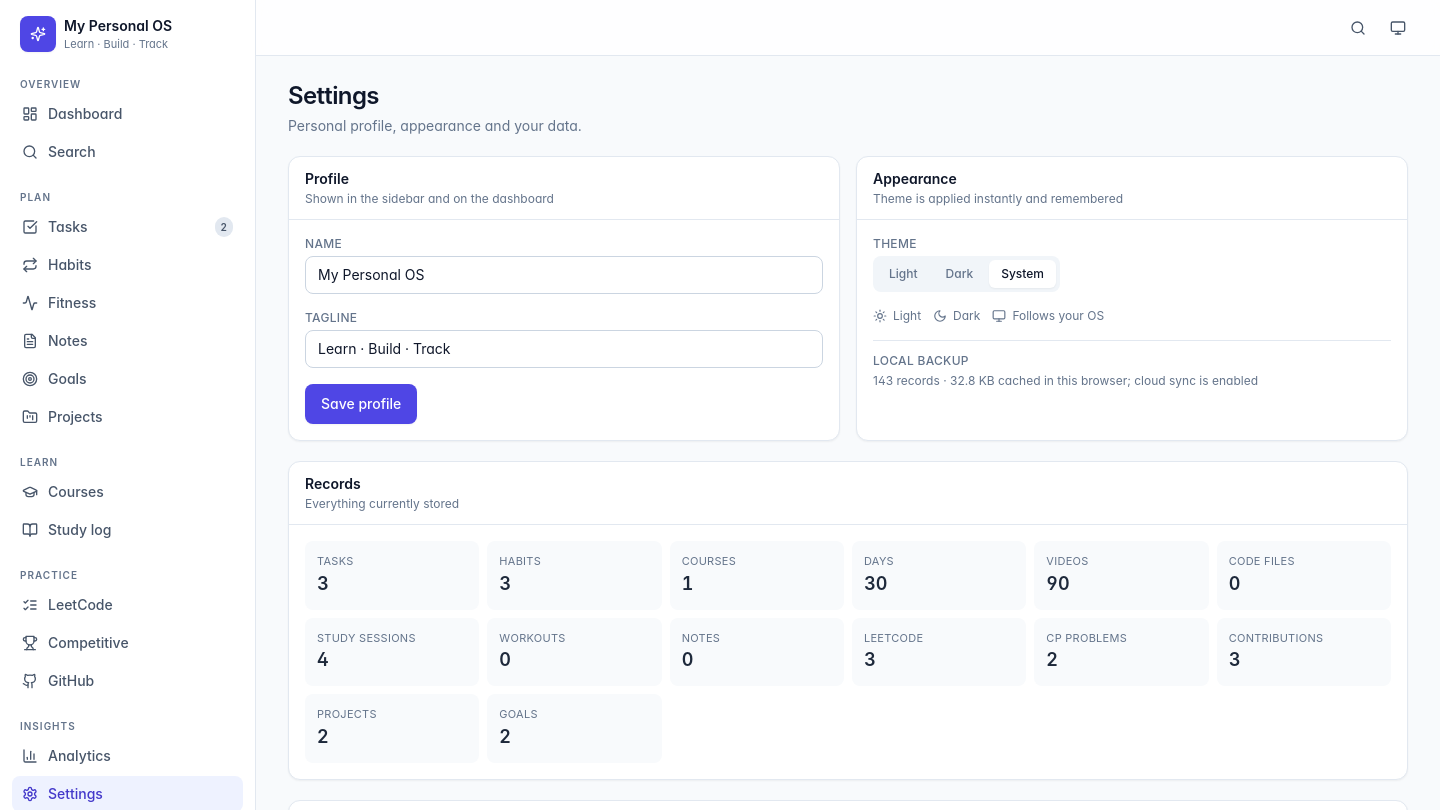
Test case: analytics, search and settings › updates the profile name
Expected: the heading "Settings" is shown, [288, 81, 379, 110]
Replace the text in the field labelled "Name" with "Ada": (564, 275) [305, 256, 823, 294]
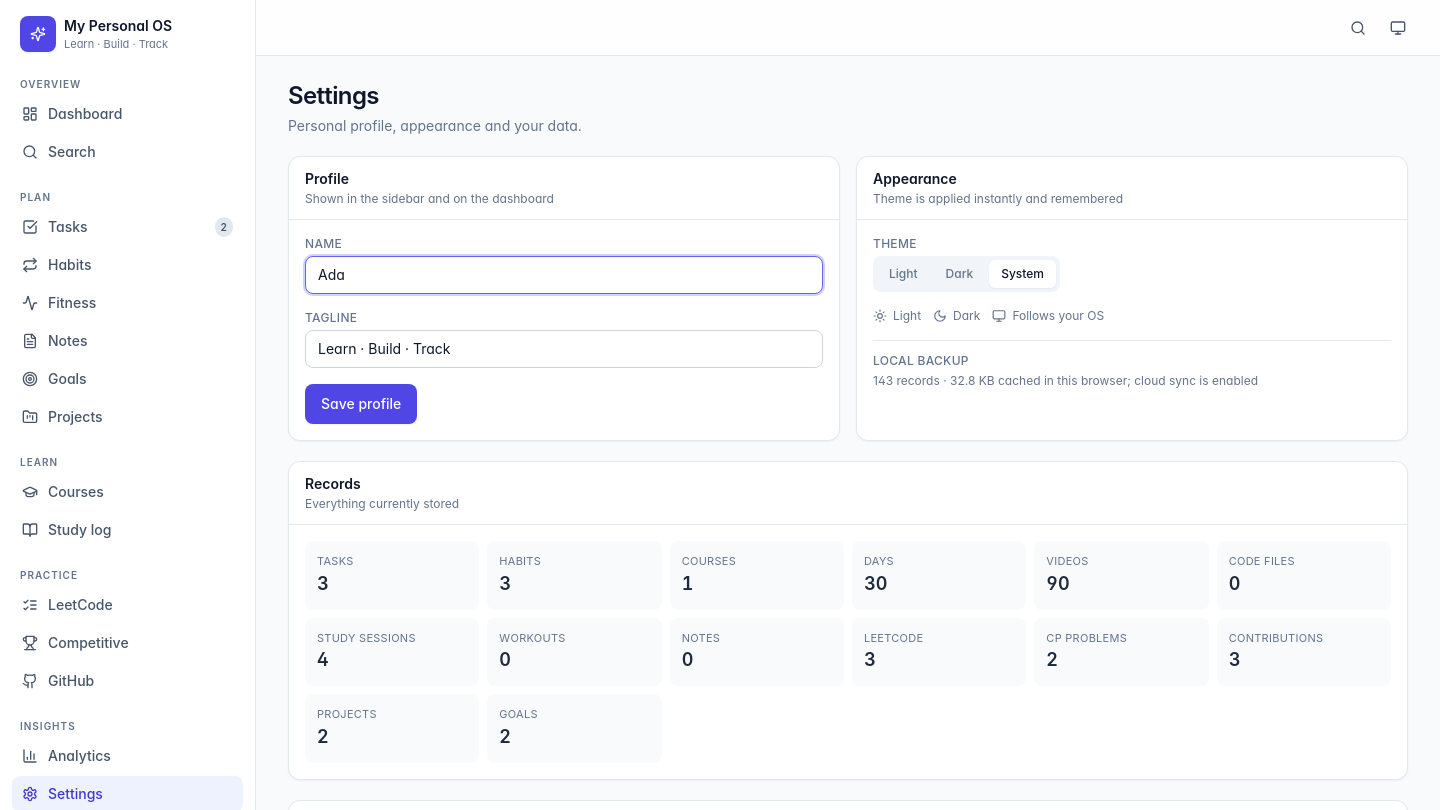
Click the button "Save profile": (361, 404) [305, 384, 417, 424]
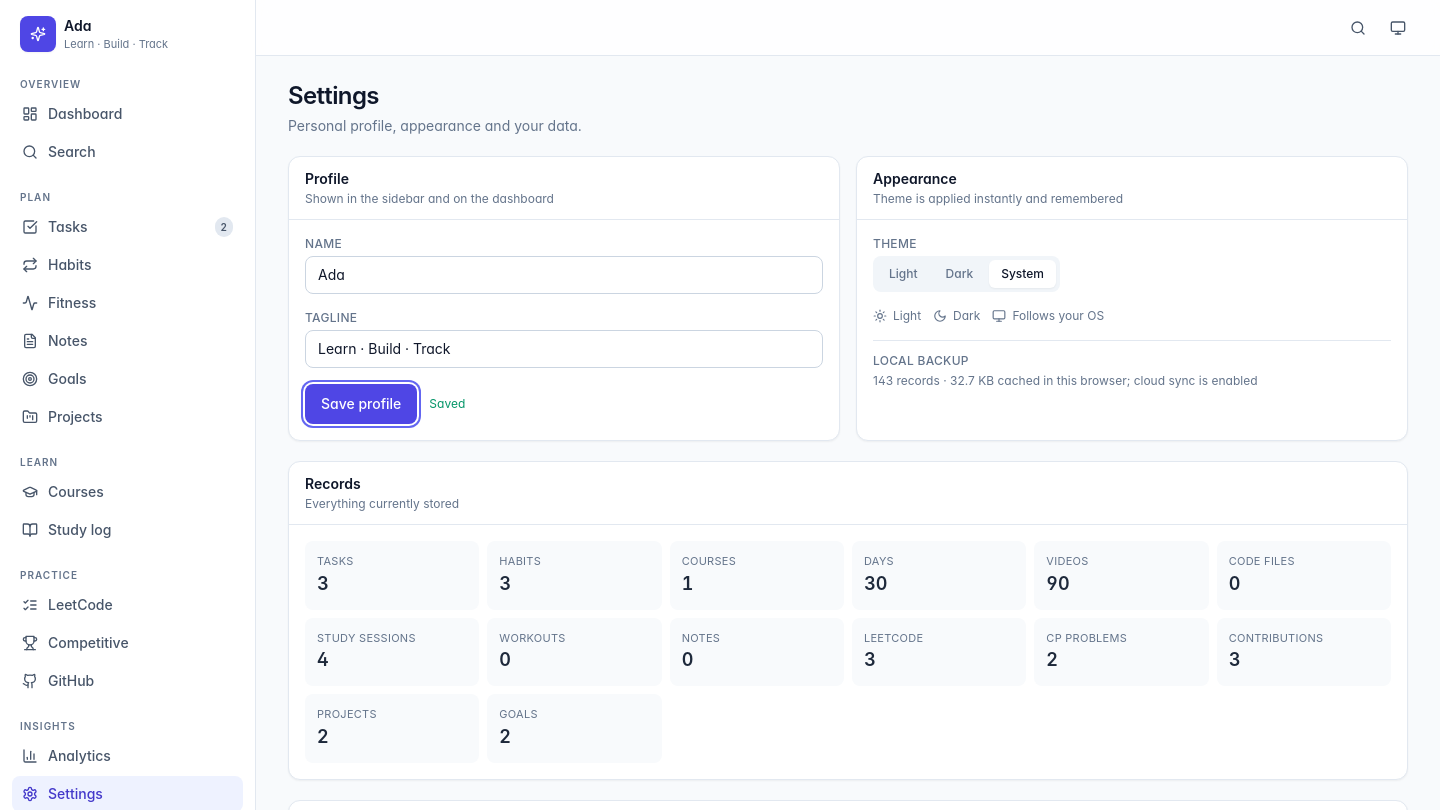
Expected: the text "Ada" is shown, [64, 17, 92, 34]
Expected: the text "Saved" is shown, [429, 396, 465, 412]
